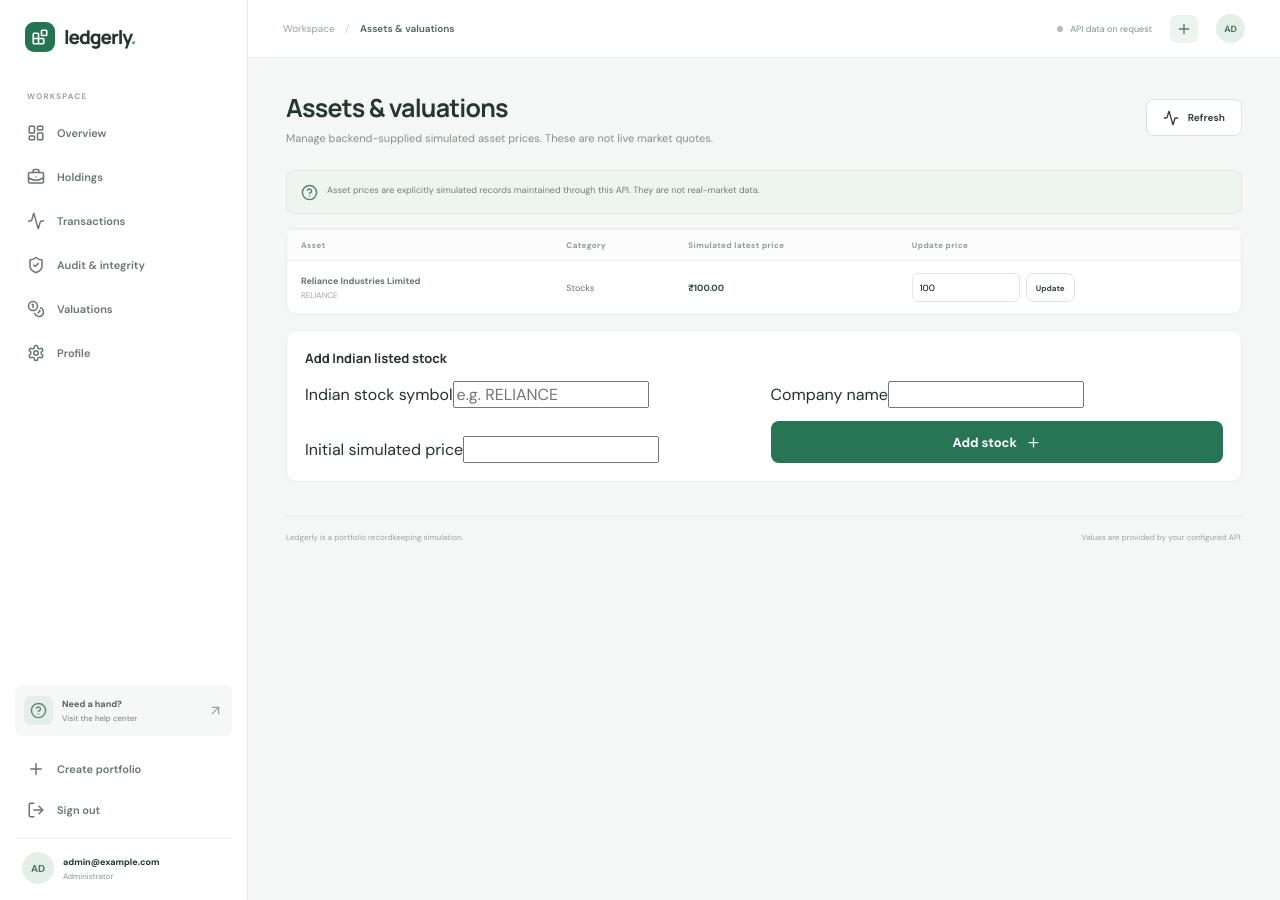
Test: admin asset price controls › sends simulated asset prices as decimal strings for creation and price updates
The image size is (1280, 900).
Replace the text in the number field named "New price for RELIANCE" with "123.4500" at (966, 288), box [912,273,1020,302]
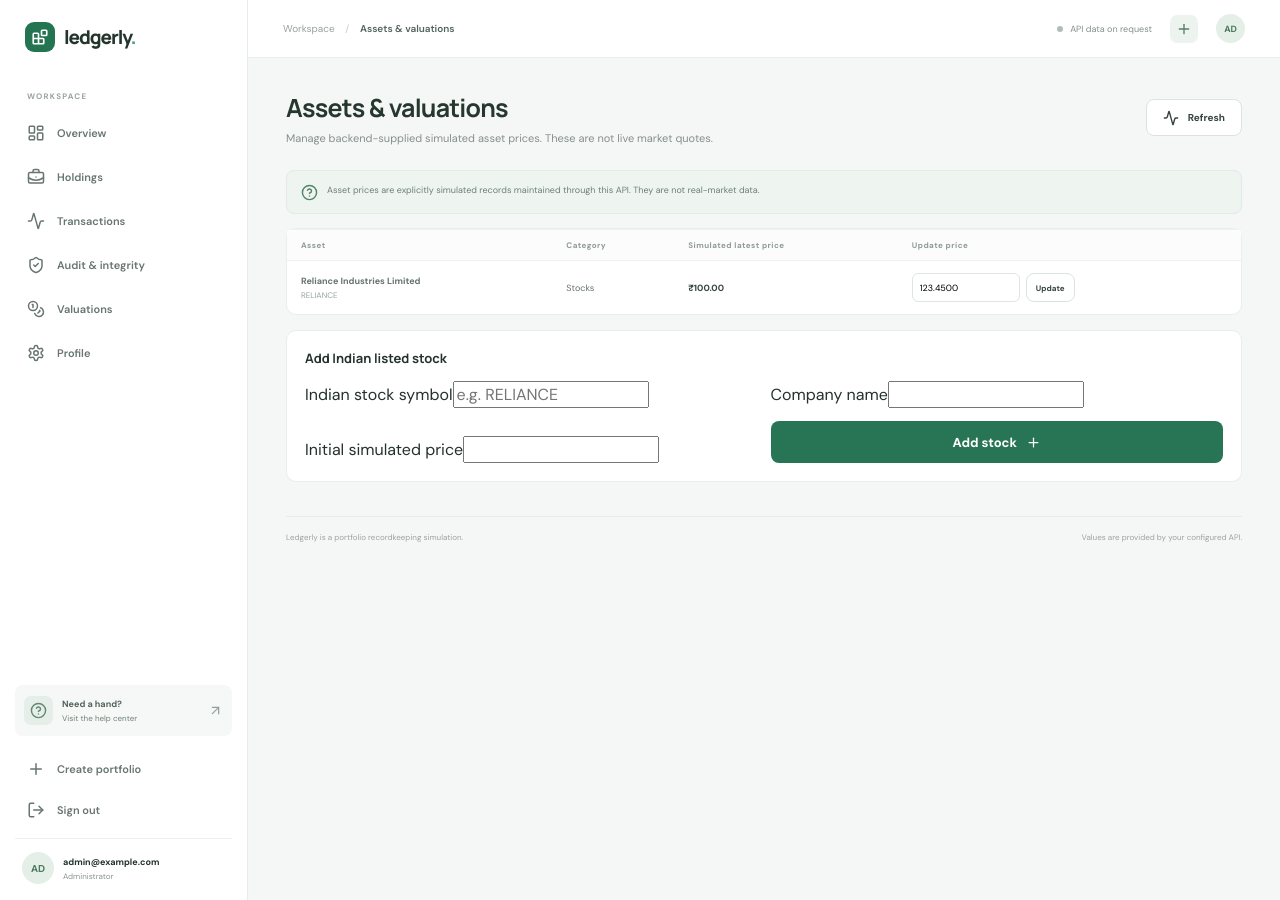
Click the button "Update" at (1050, 288), box [1026,273,1075,302]
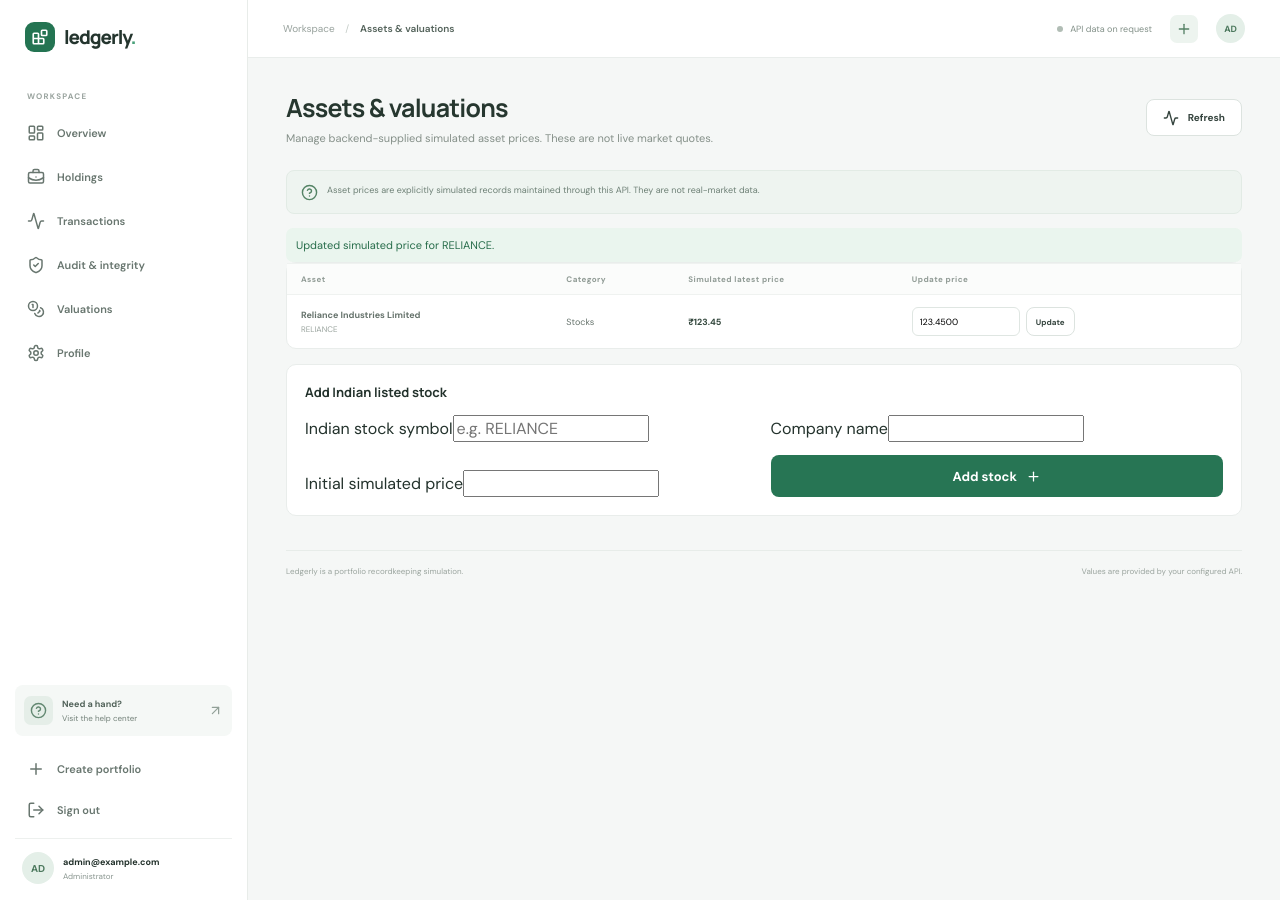
Check: the text "Updated simulated price for RELIANCE." is shown, box [286,228,1242,262]
Type "TCS" into the field labelled "Indian stock symbol" at (551, 428), box [453,415,649,442]
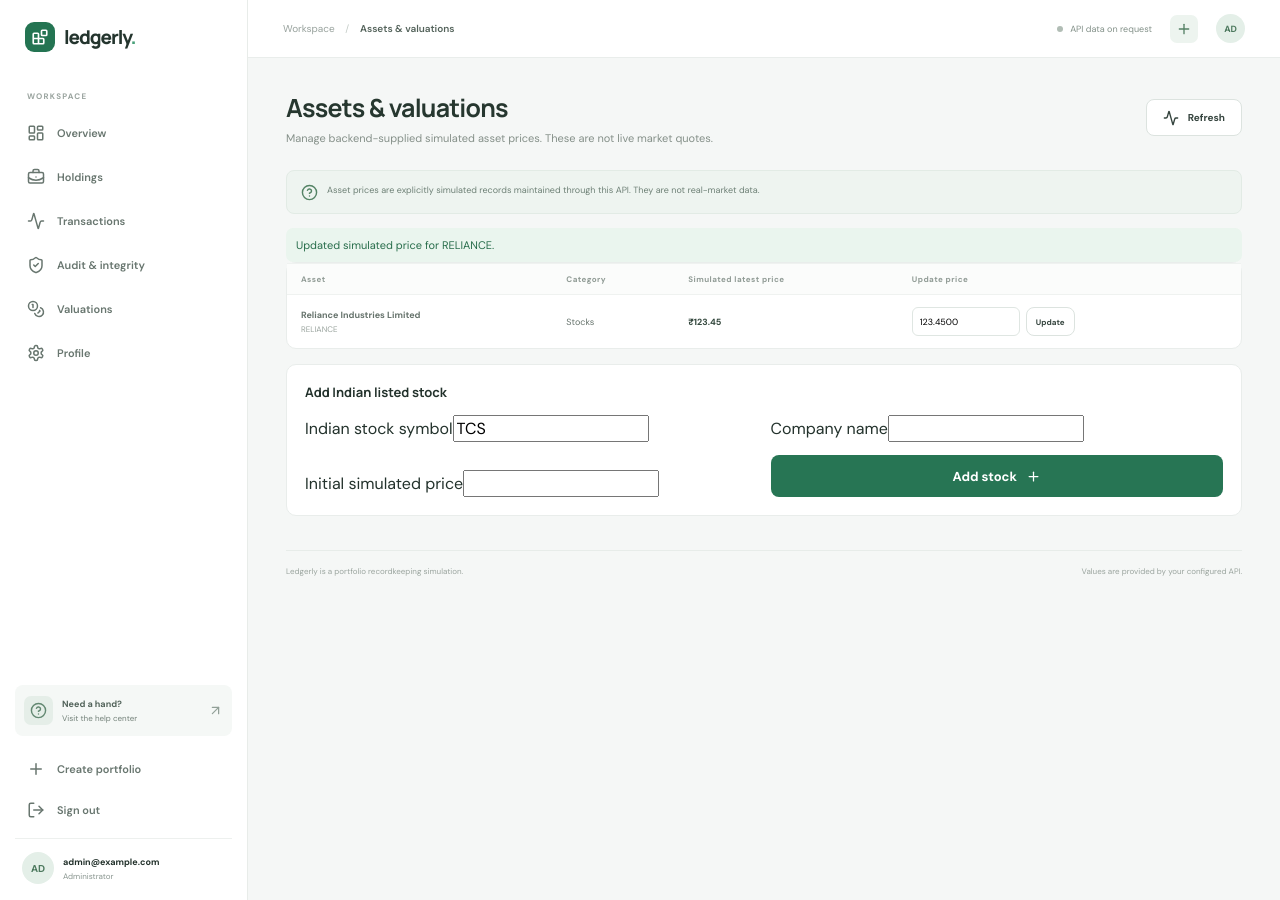
Type "Tata Consultancy Services Limited" into the field labelled "Company name" at (986, 428), box [888,415,1084,442]
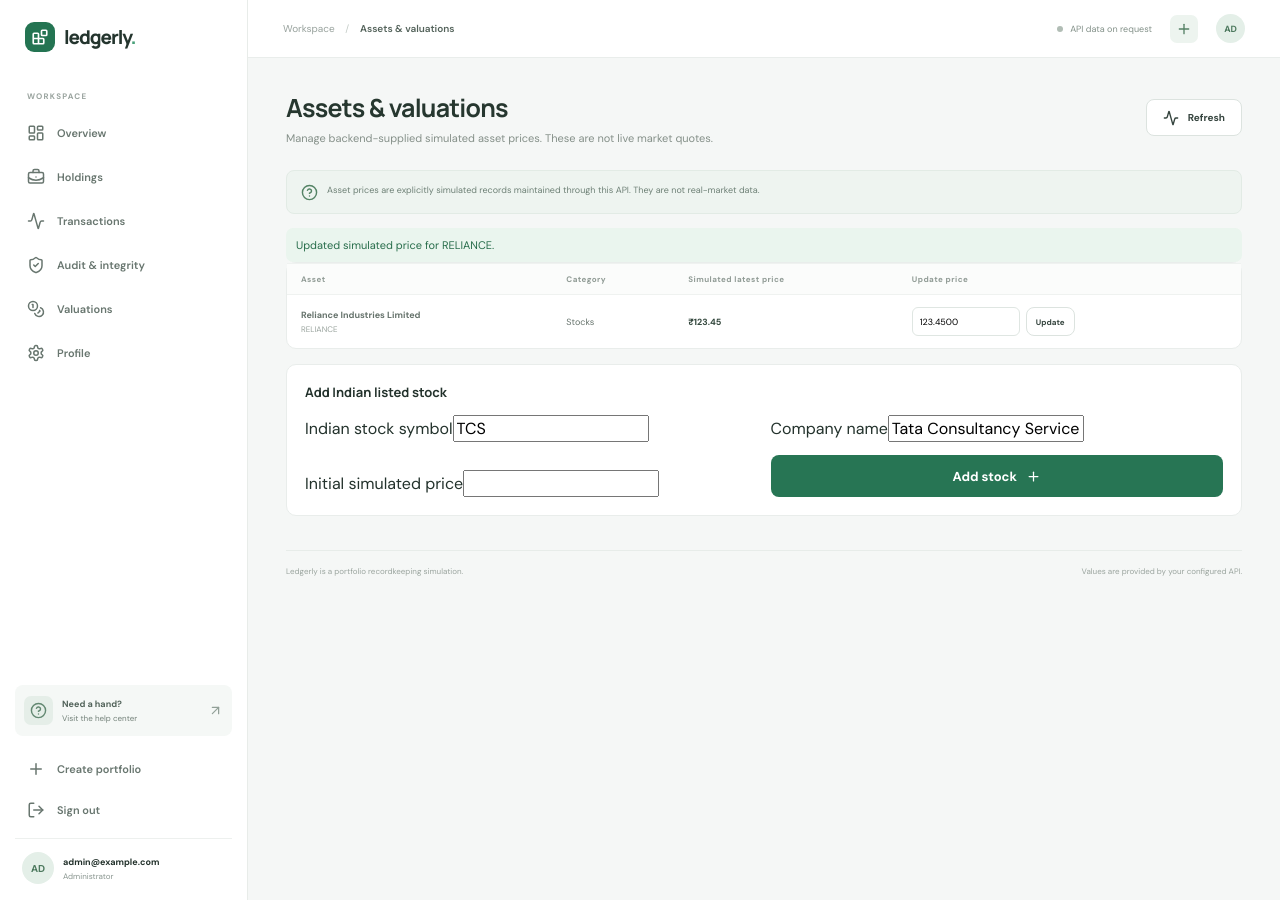
Type "0.0001250" into the number field labelled "Initial simulated price" at (561, 484), box [463,470,659,497]
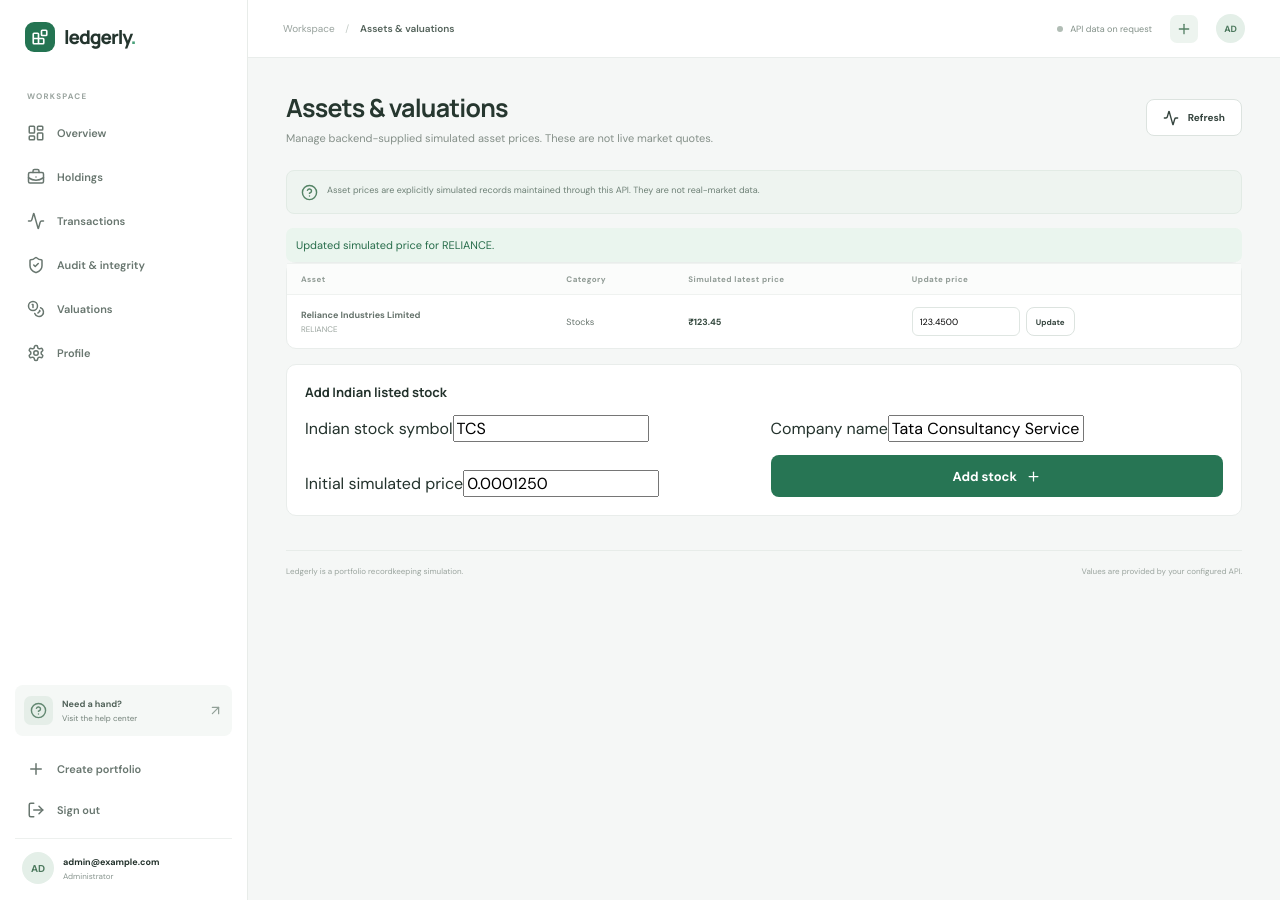
Click the button "Add stock" at (997, 476), box [770,455,1223,497]
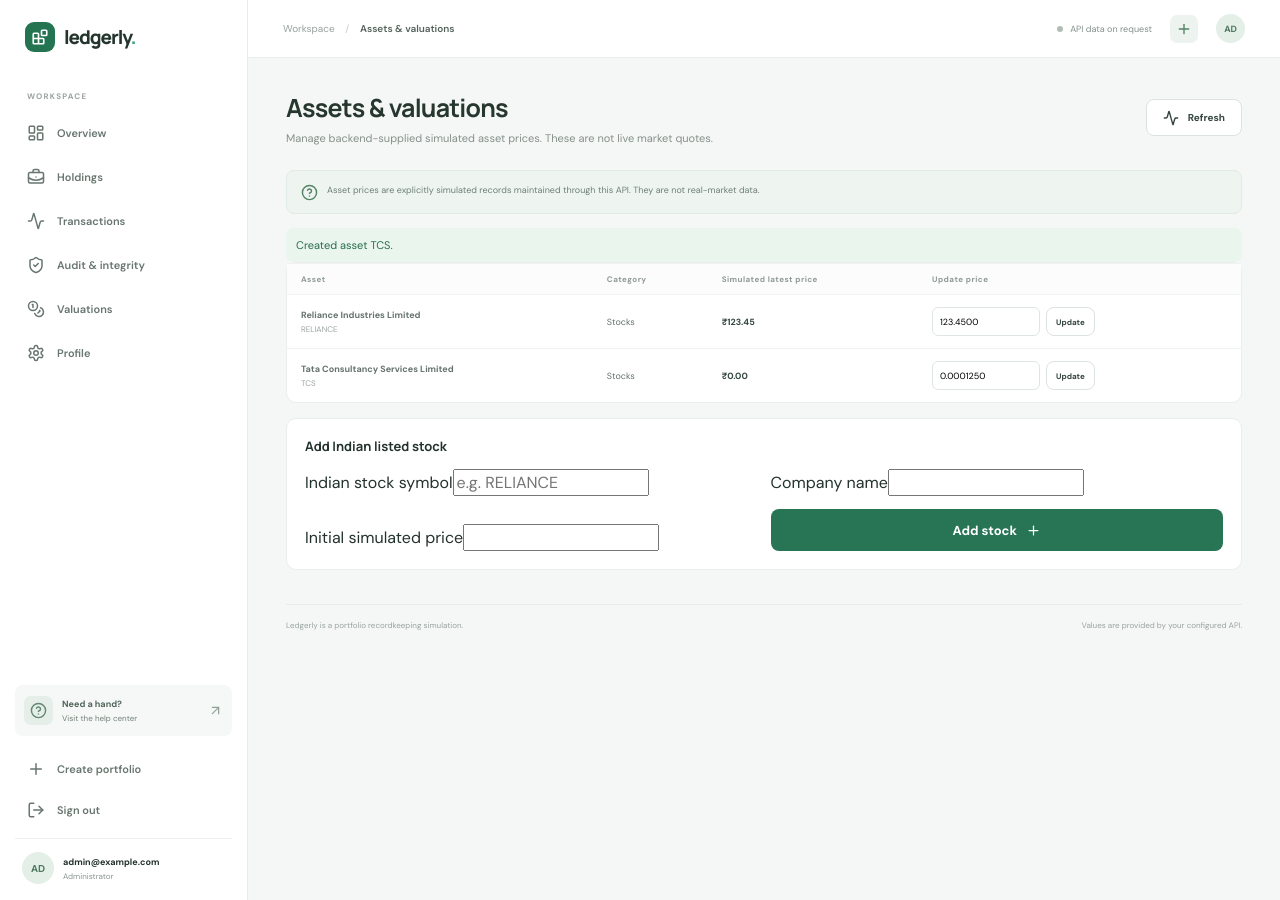
Check: the text "Created asset TCS." is shown, box [286,228,1242,262]
